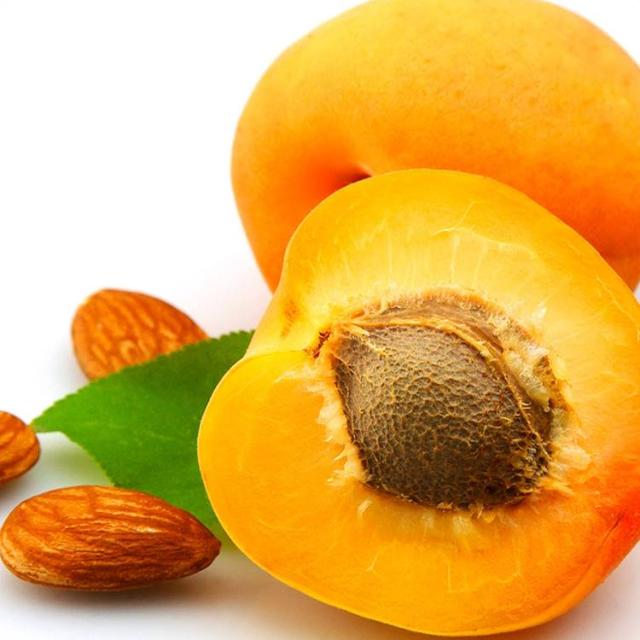Cekirdek: (317, 291, 567, 509)
Kayisi: (200, 170, 639, 635), (233, 0, 639, 288)
